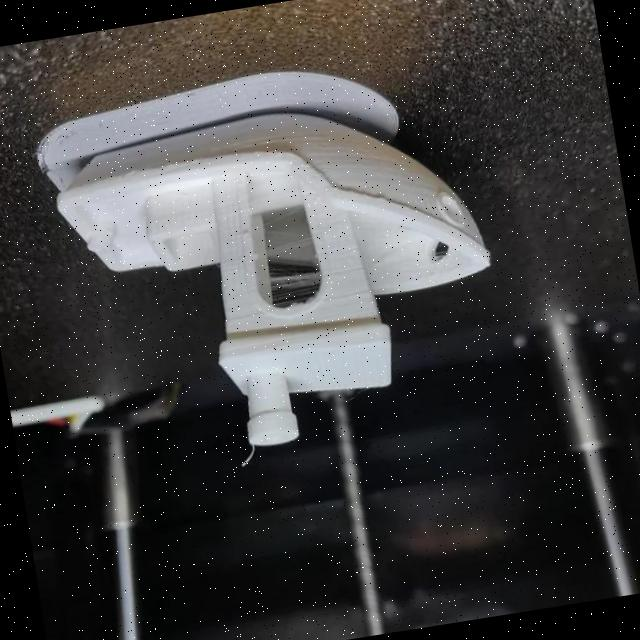stringing: (271, 266, 322, 302), (256, 237, 312, 258)
